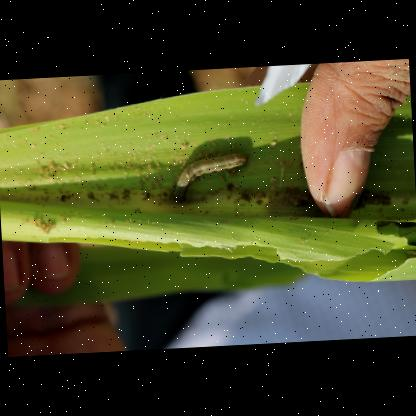Fall Armyworm Larvae: (166, 150, 254, 206)
